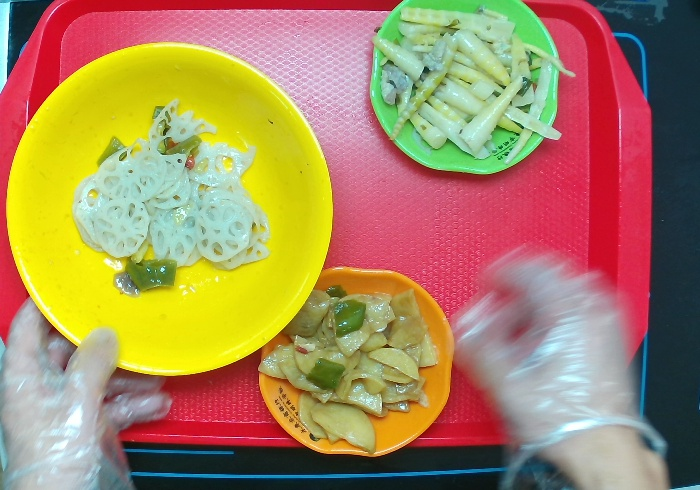YKMZ-Huang_Se_Tang_Wan: (2, 36, 338, 385)
YKMZ-Ju_Se_Ao_Bian_Wan: (254, 261, 458, 460)
YKMZ-Lv_Se_Ao_Bian_Wan: (367, 1, 568, 178)
